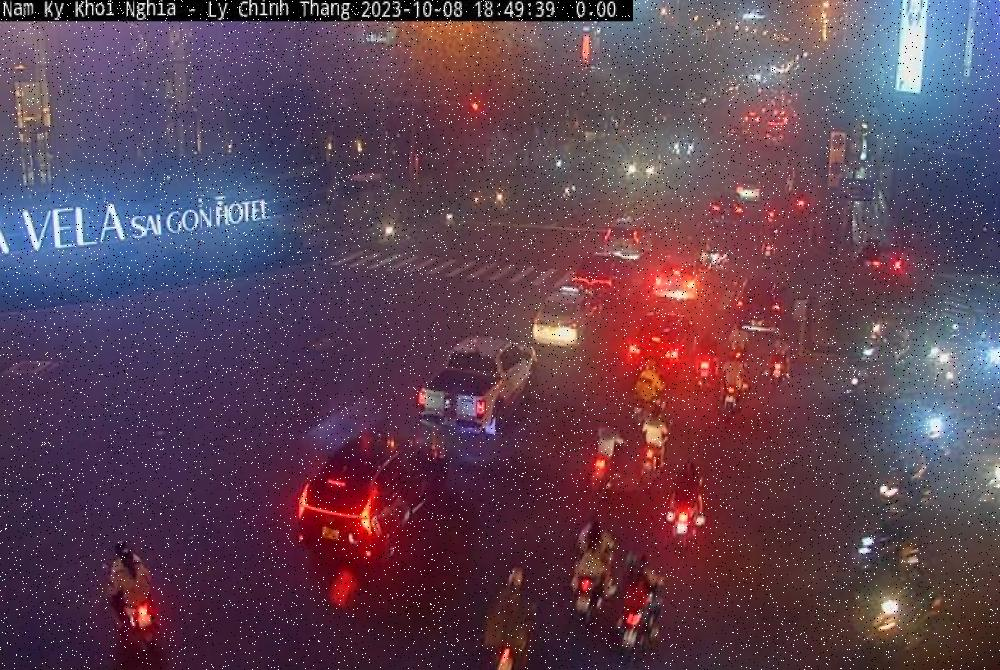car: (420, 336, 540, 436)
